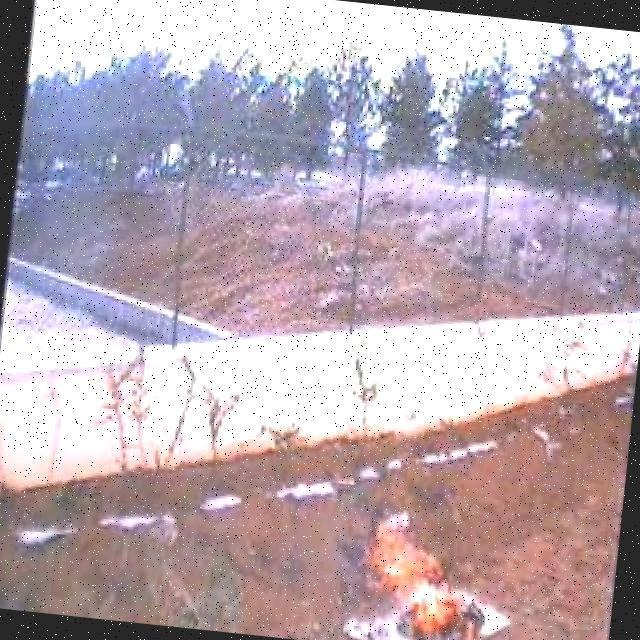Fire: (356, 505, 499, 640)
